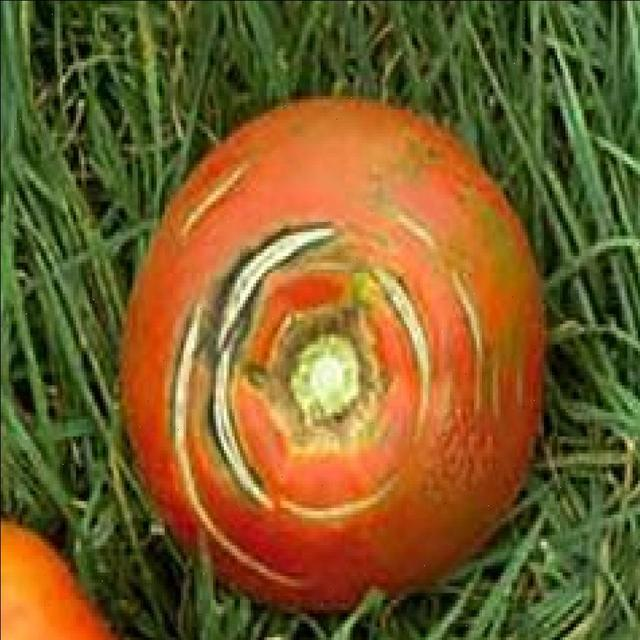Cracking Fruit: (36, 39, 311, 330)
